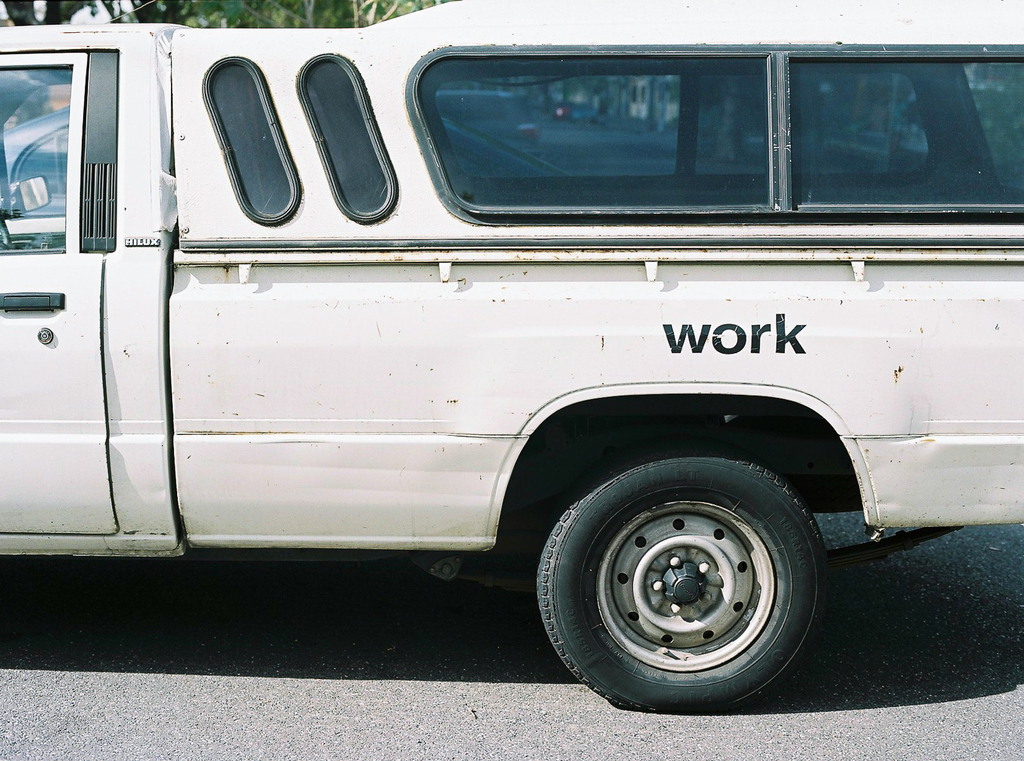Truck: (0, 0, 1019, 710)
